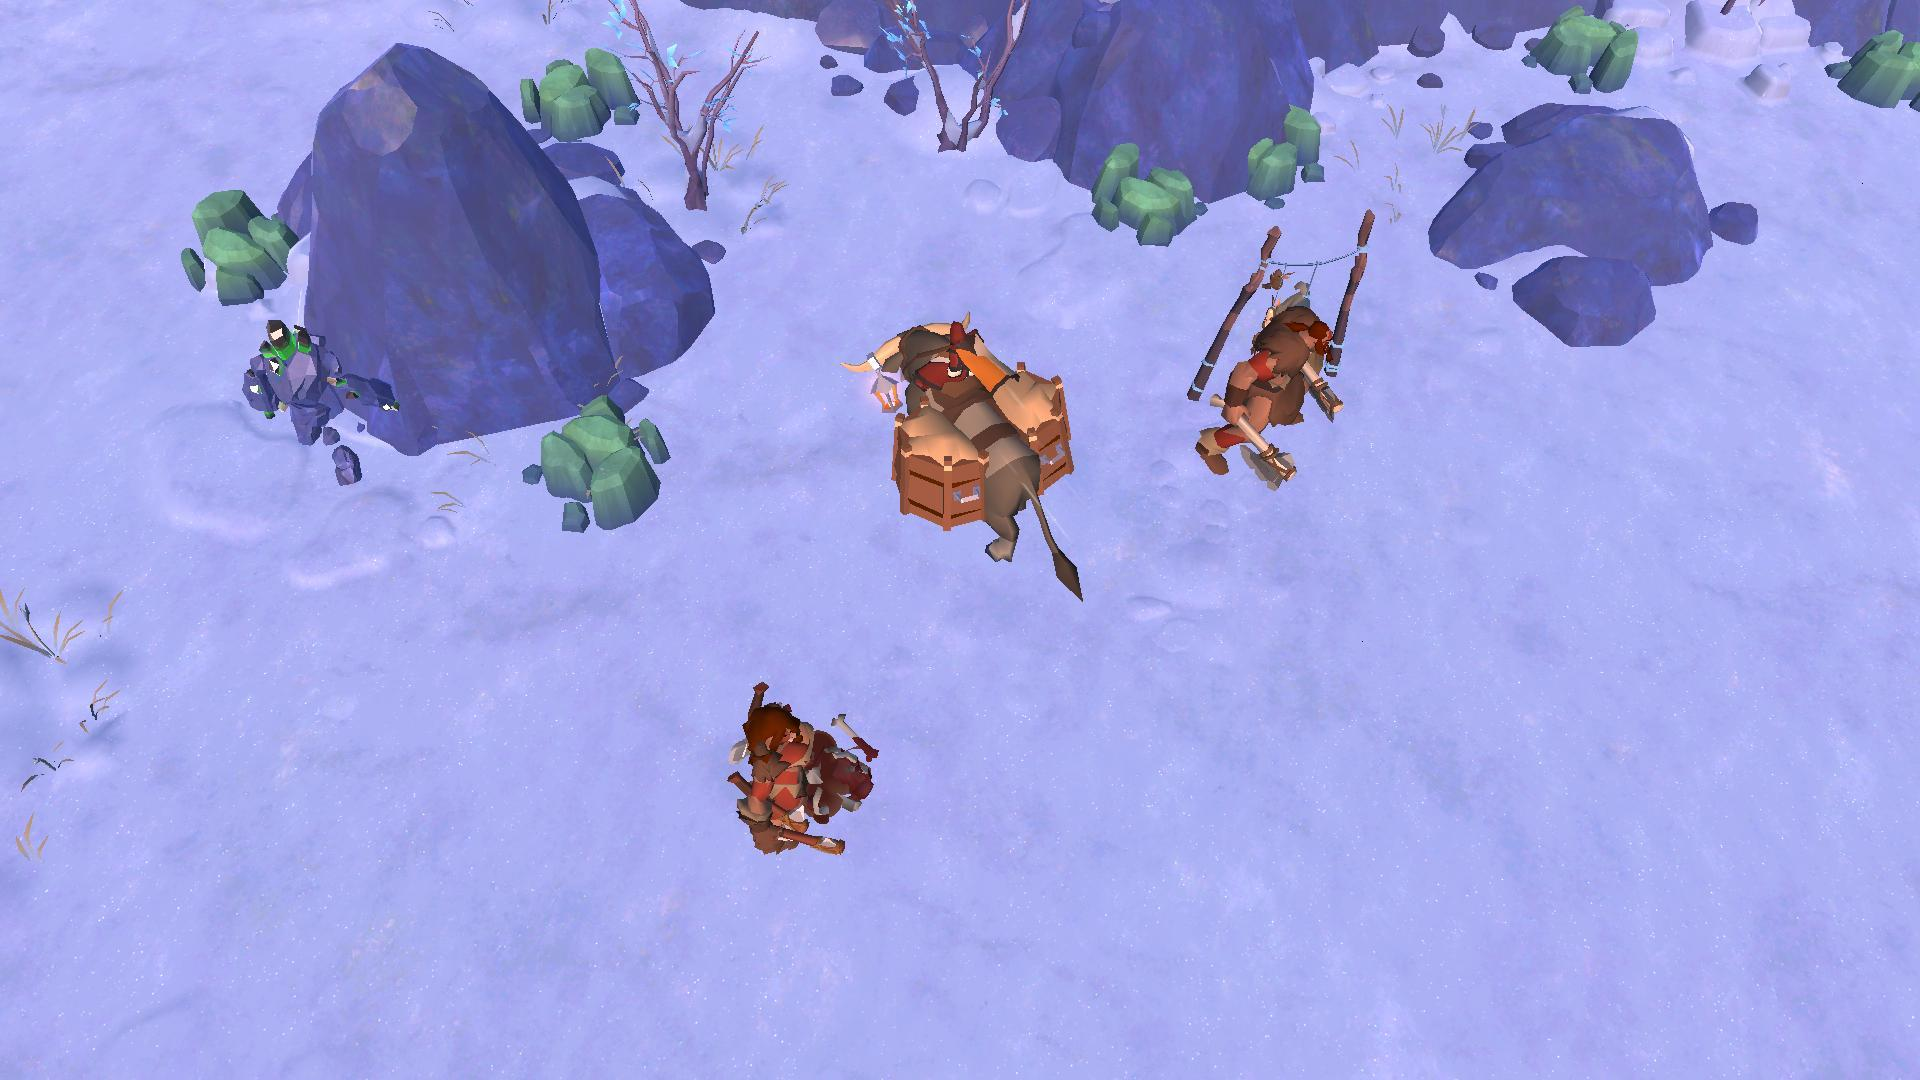enemy_factionKeeper: (1201, 286, 1337, 481), (716, 687, 823, 864)
rock_t3: (529, 396, 666, 537), (178, 181, 302, 303), (1083, 133, 1204, 248), (509, 47, 647, 145), (1515, 0, 1639, 102), (1816, 29, 1920, 125), (1236, 103, 1327, 208)
